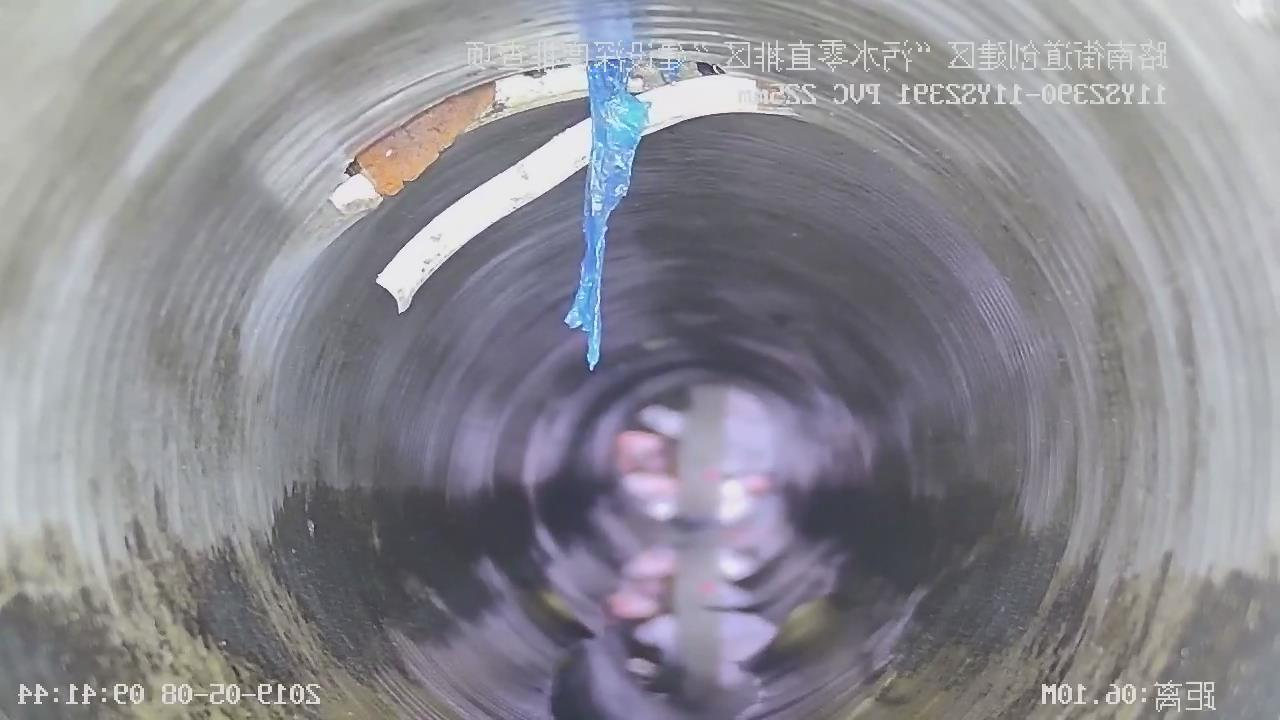JKCL: (378, 57, 759, 370)
